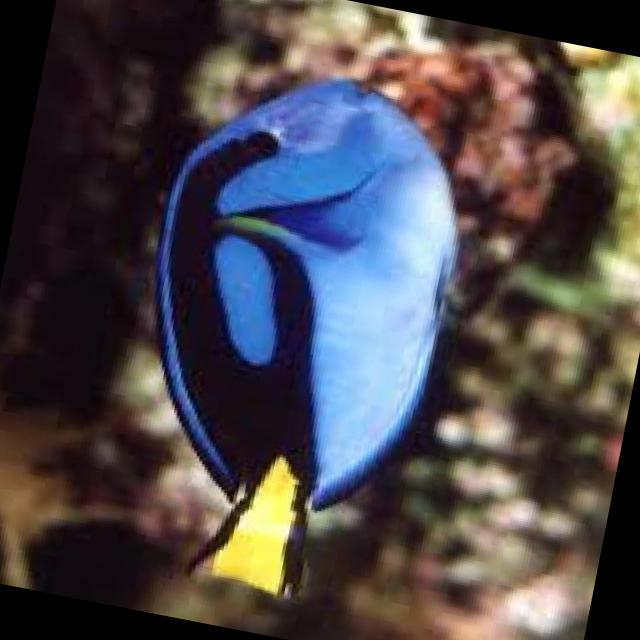BlueTang: (97, 50, 477, 614)
